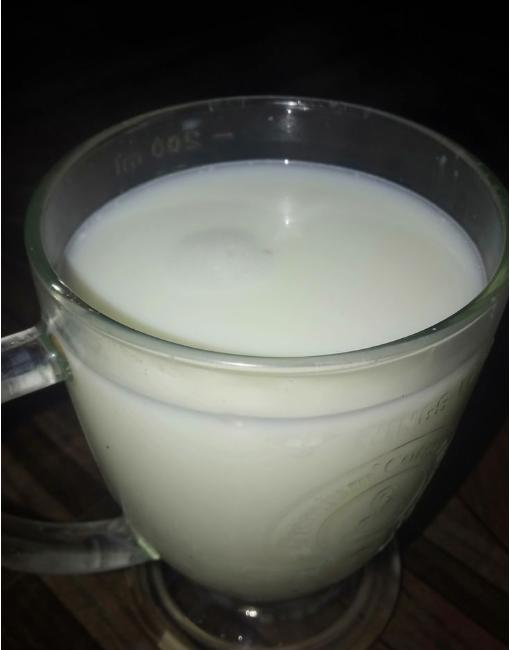produk_susu: (63, 141, 461, 566)
